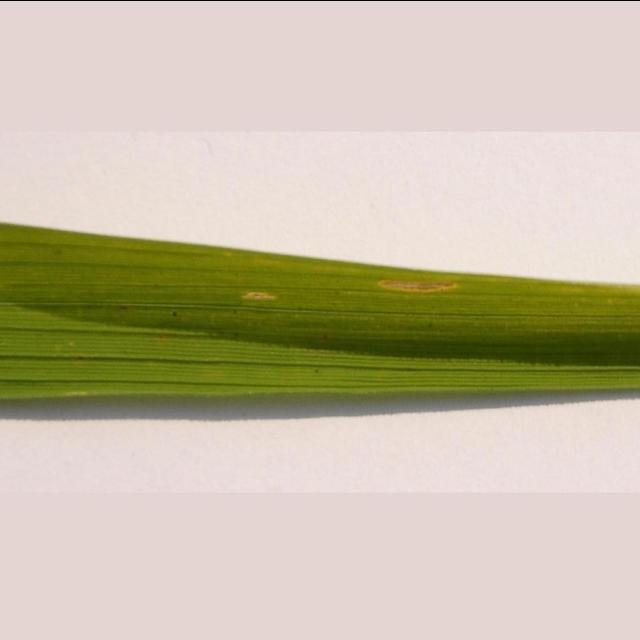Bacterial leaf blight: (354, 271, 472, 306), (230, 282, 284, 309)
